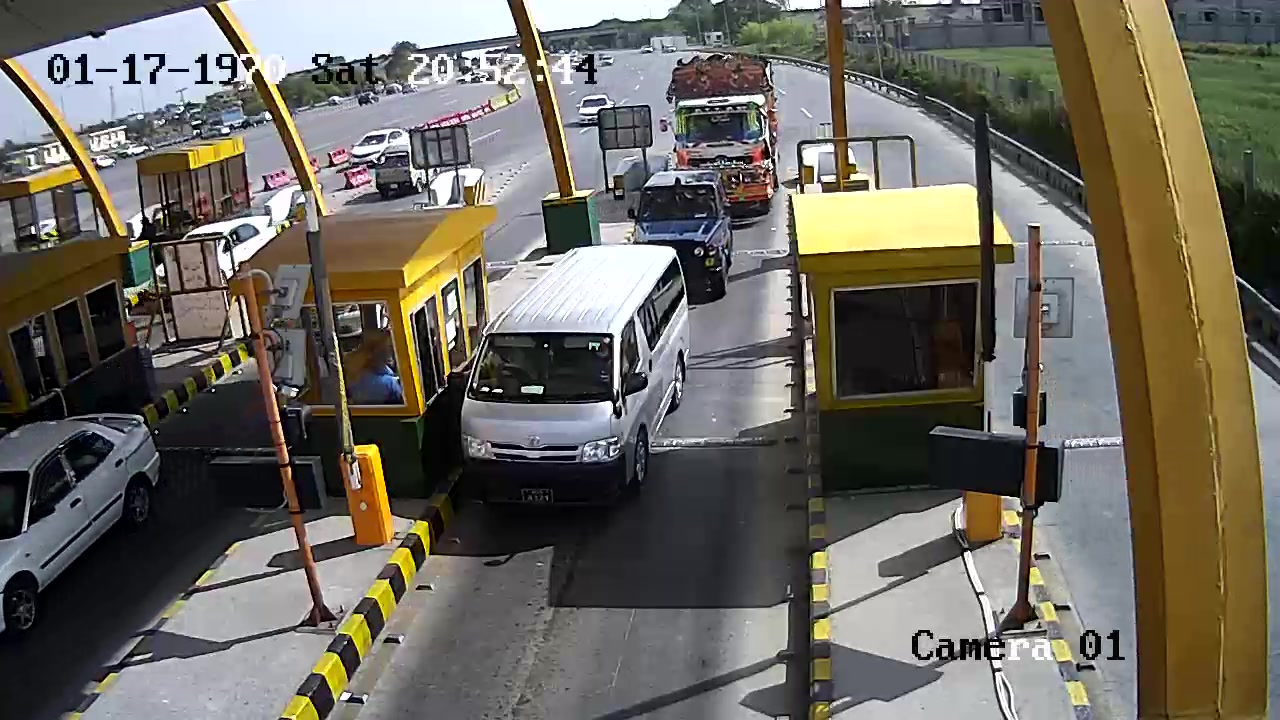F2: (455, 236, 694, 516)
